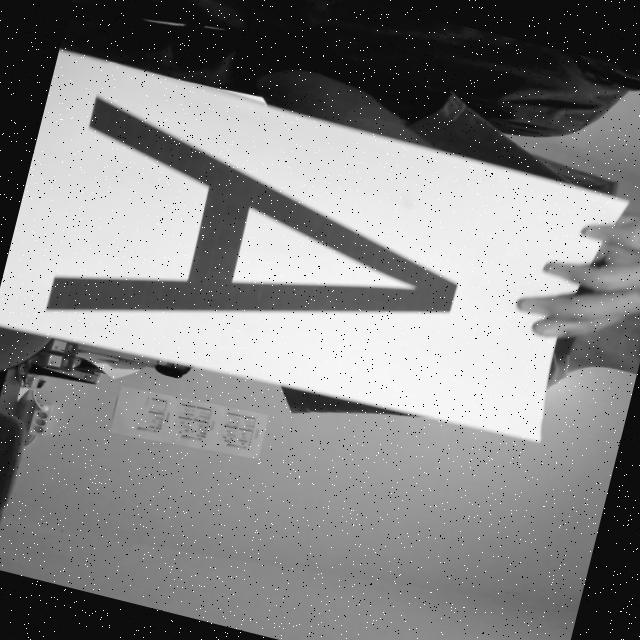a: (21, 81, 511, 427)
